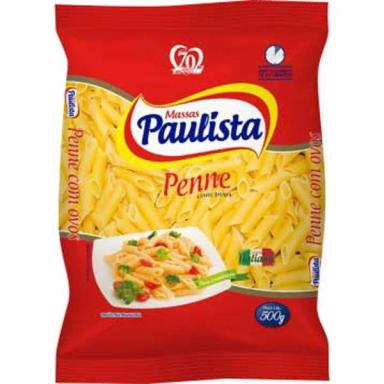pasta package: (57, 2, 328, 382)
